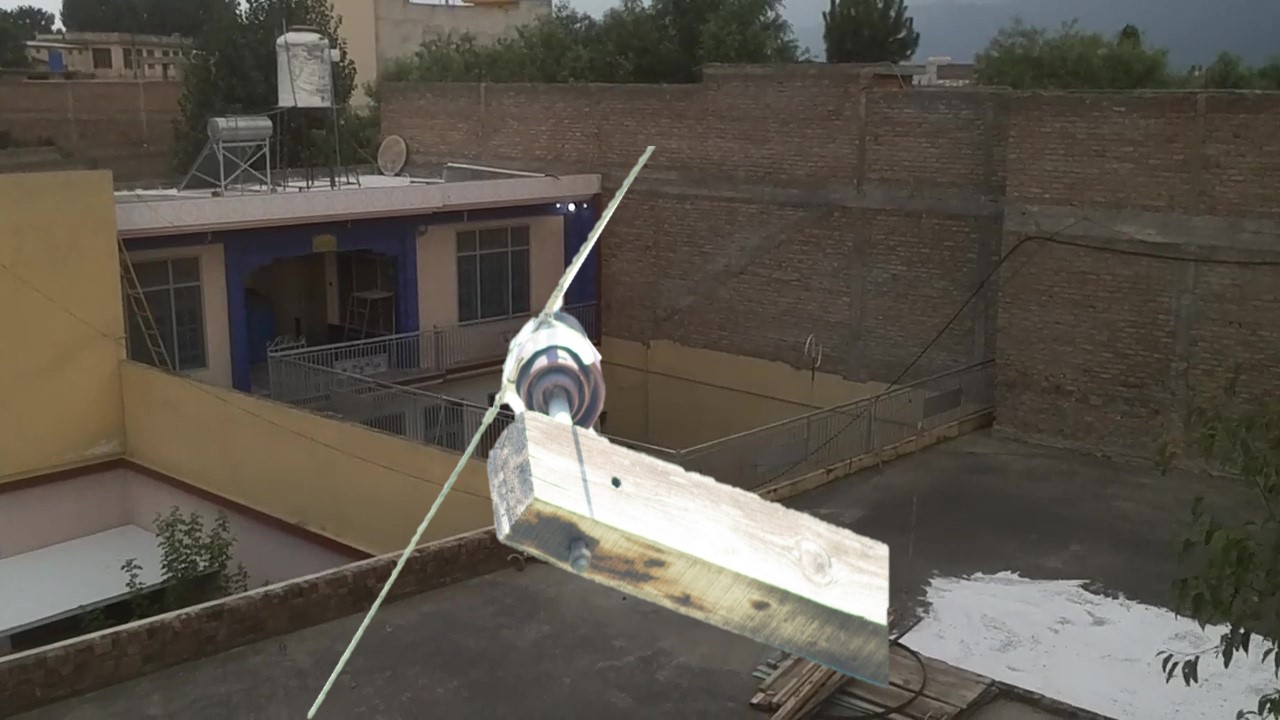defect_pin: (494, 304, 609, 429)
